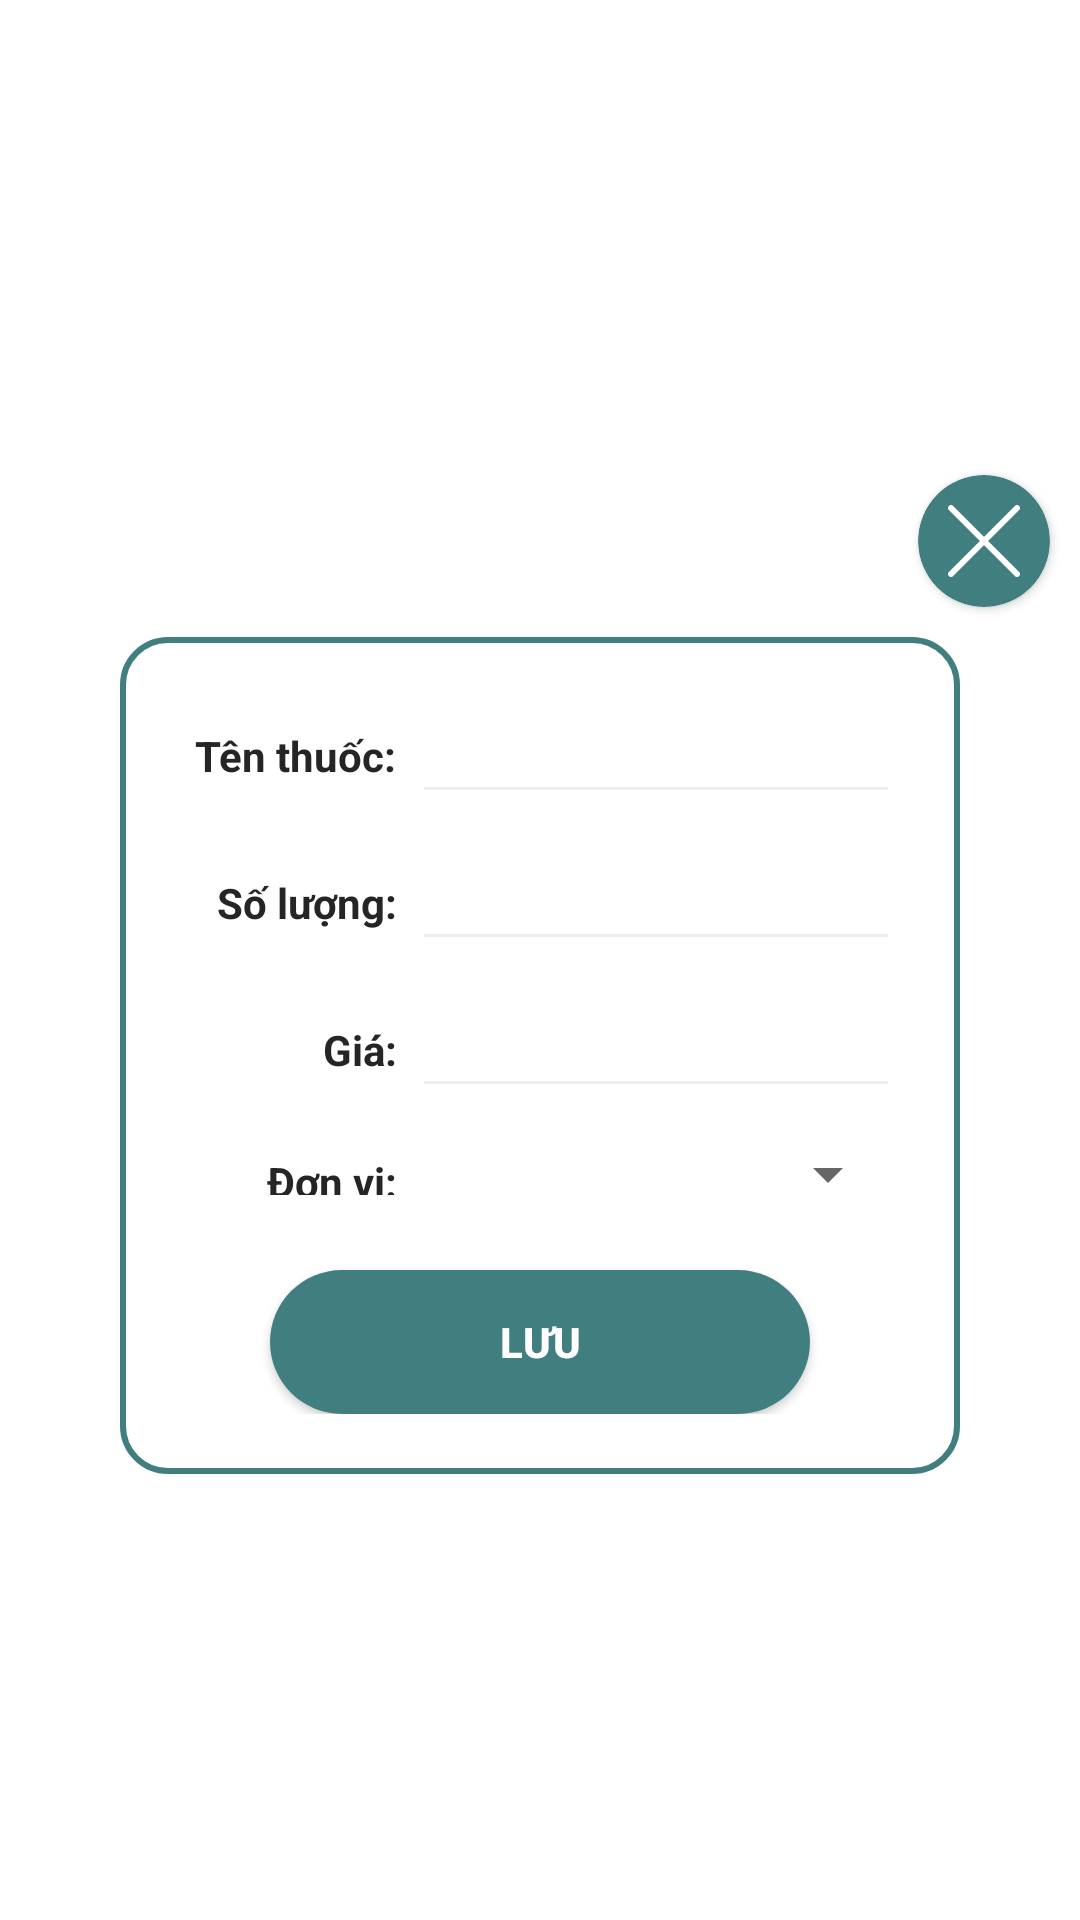

Screen size 1080x1920. Icon name, then its box in pixels as (x1, y1, x2, y2):
cancel: (948, 505, 1020, 577)
